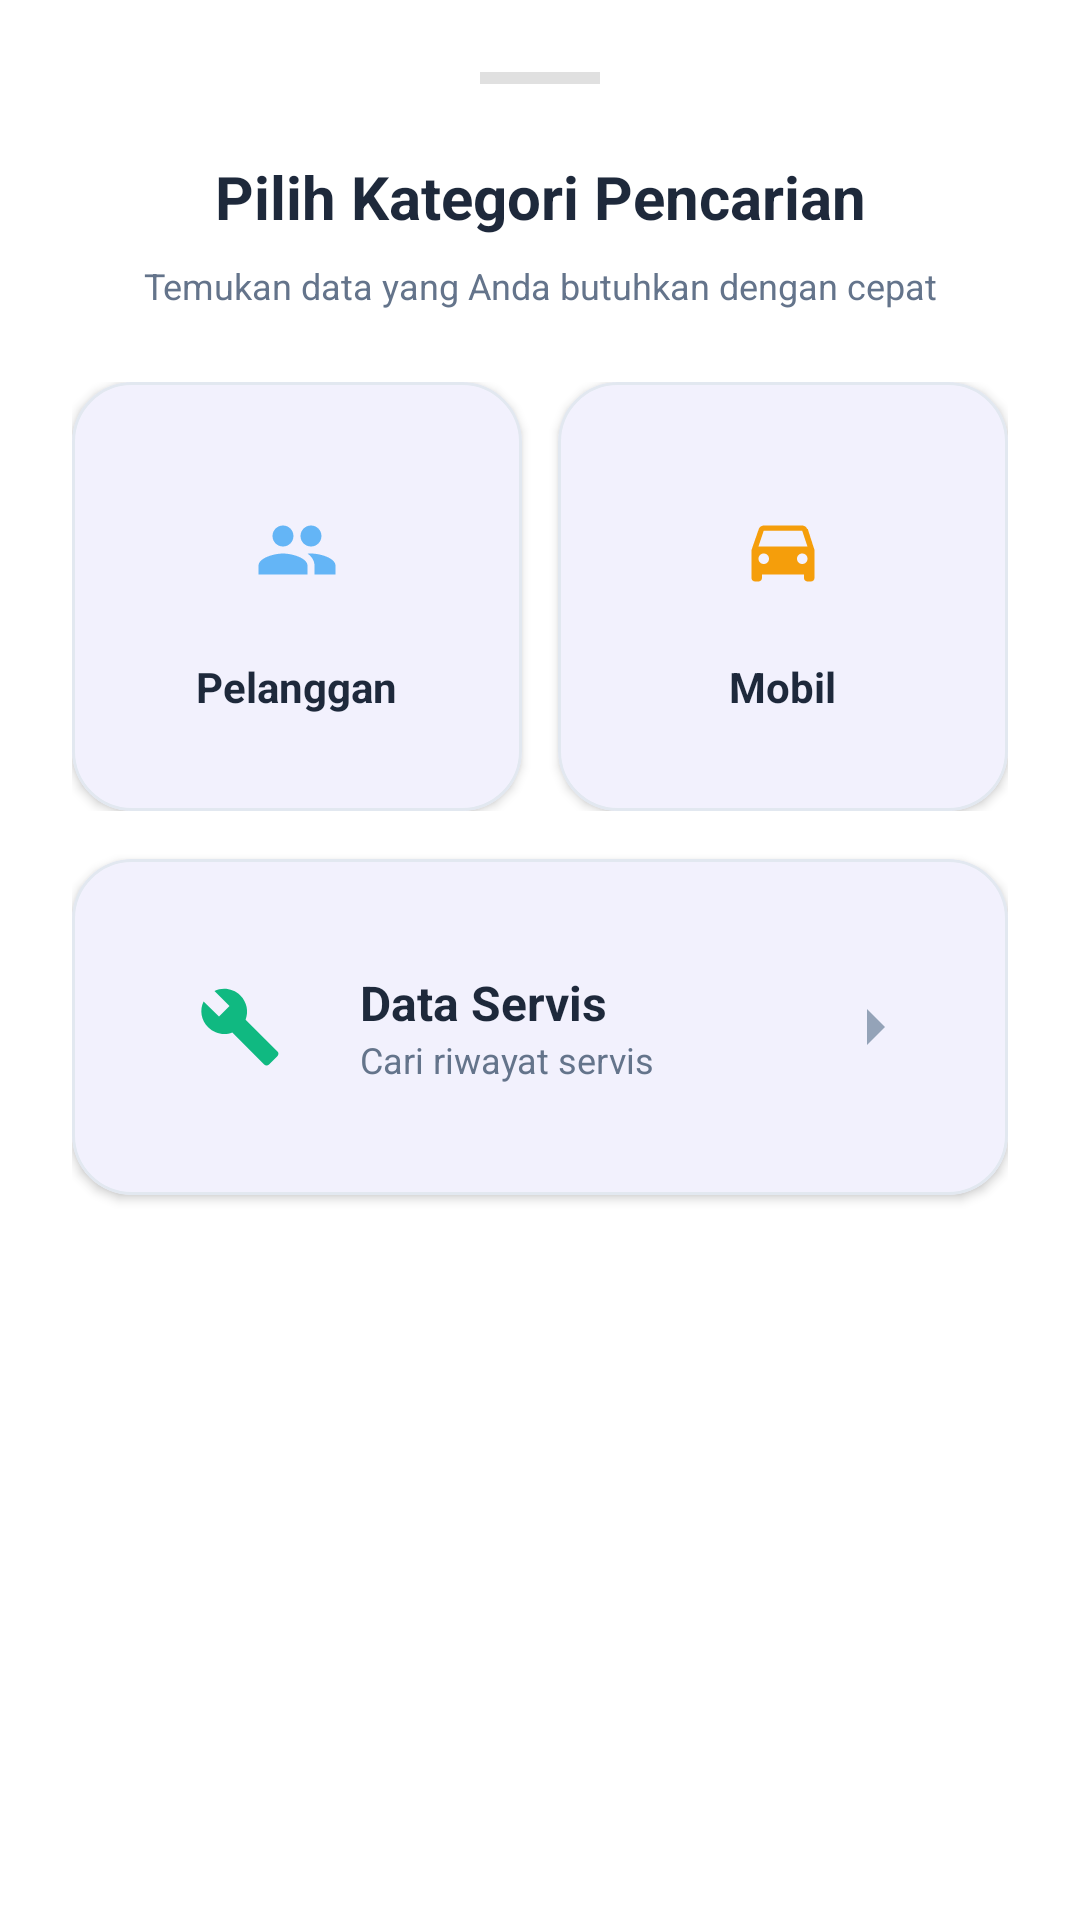

Icons on this 1080px x 1920px Android screen, each with its box as (x1, y1, x2, y2):
build: (201, 988, 279, 1066)
car: (751, 525, 815, 582)
chevron right: (867, 1009, 885, 1045)
people: (258, 525, 336, 575)
